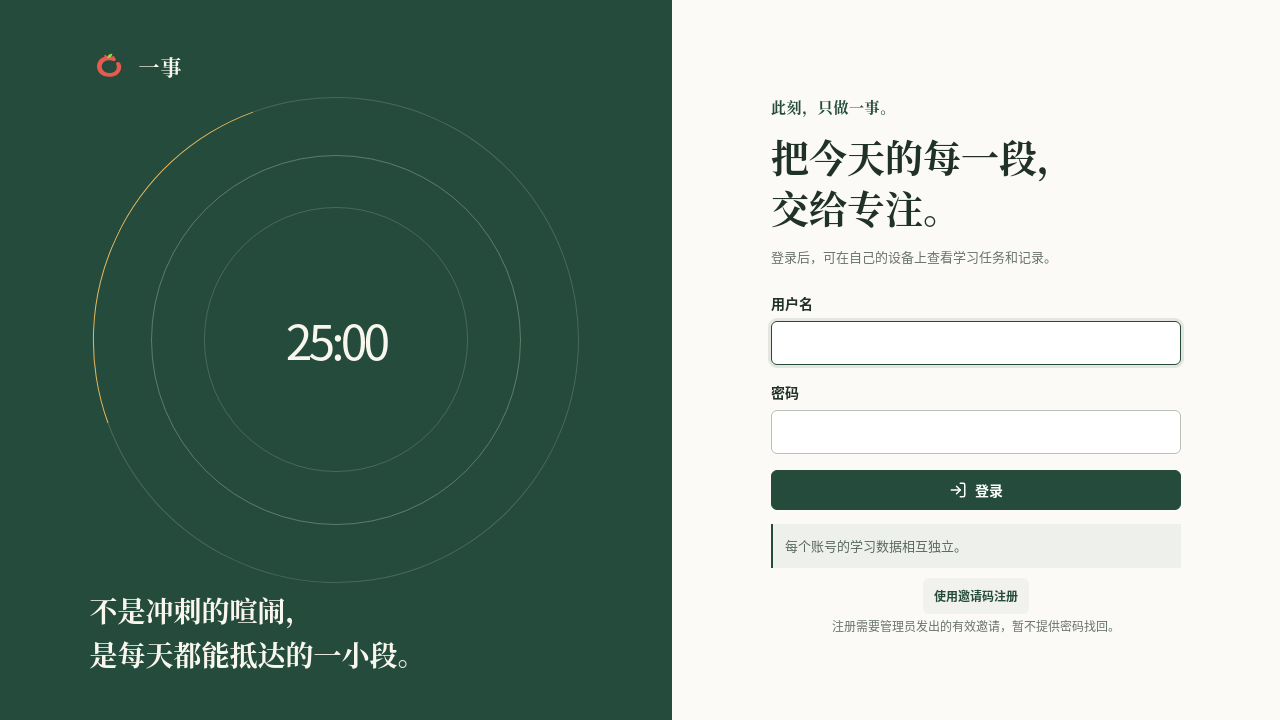
Test case: authentication experience › shows safe login feedback for {"code":"RATE_LIMITED","name":"RateLimitedError"}
The width and height of the screenshot is (1280, 720).
Type "learner" into the field labelled "用户名" at (976, 343), box x1=771 y1=321 x2=1181 y2=365
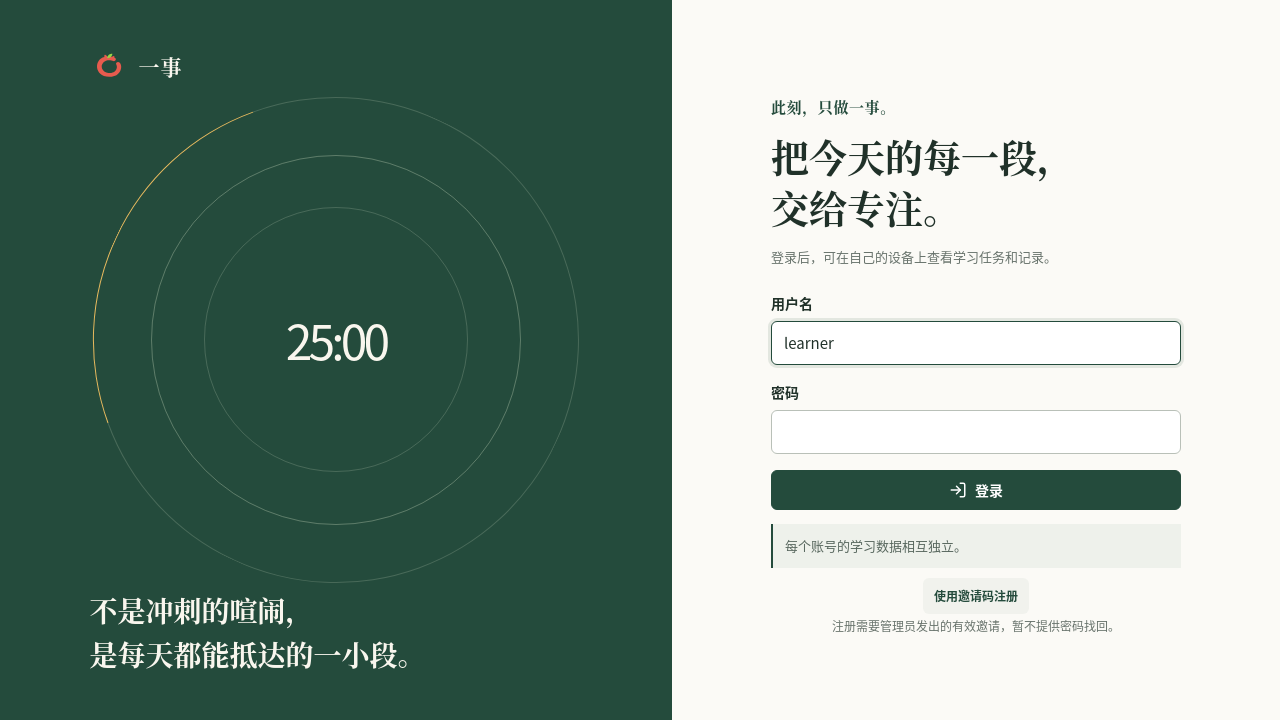
Type "wrong password" into the password field labelled "密码" at (976, 432), box x1=771 y1=410 x2=1181 y2=454
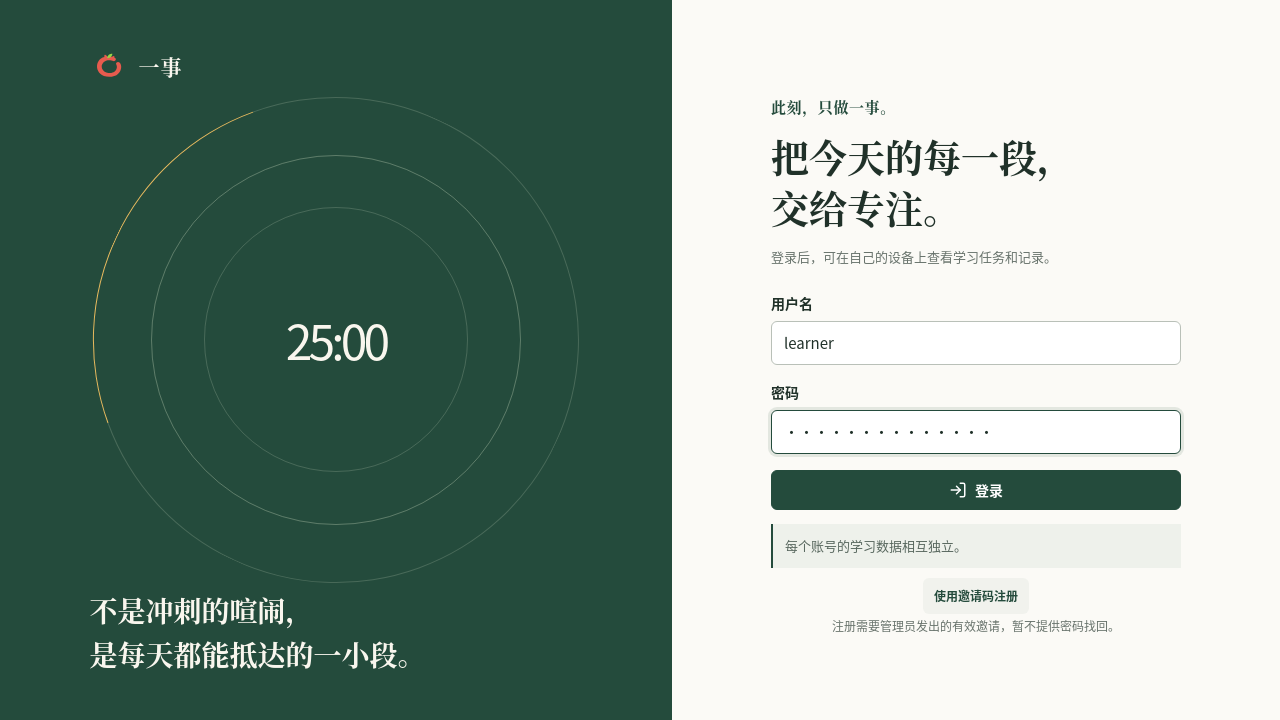
Click the button "登录" at (976, 490), box x1=771 y1=470 x2=1181 y2=510
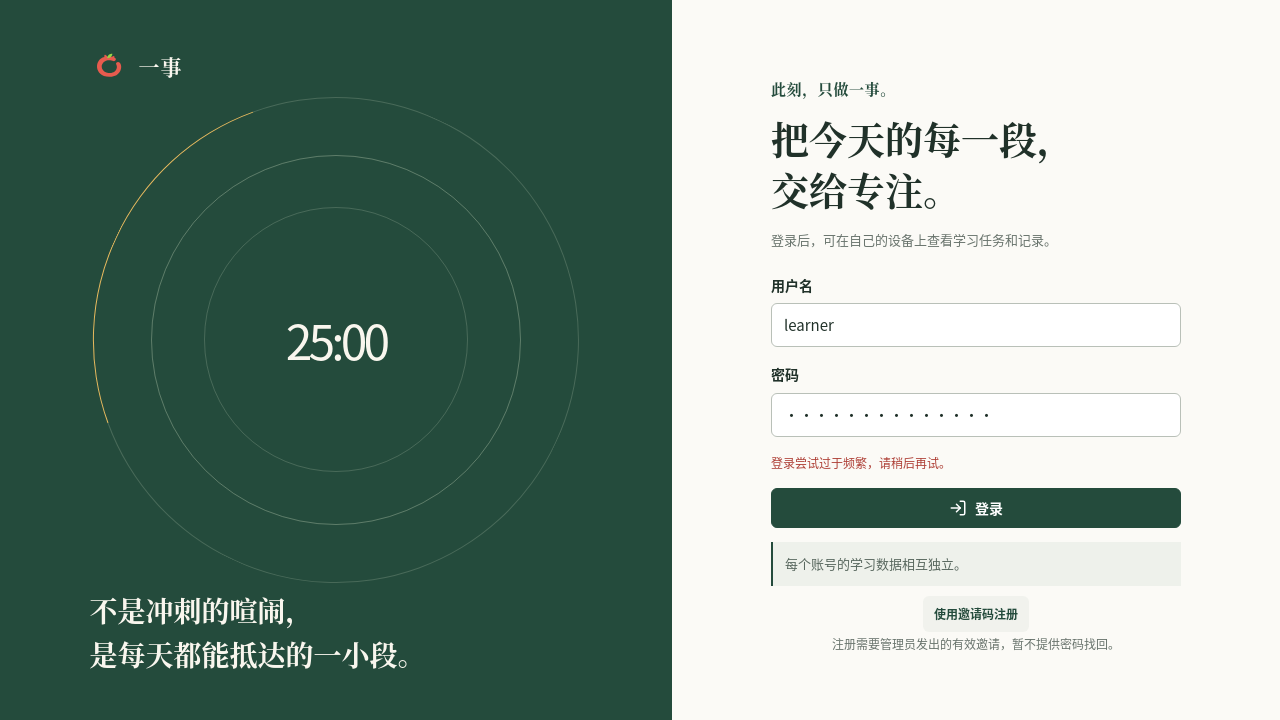
Result: the message shows "登录尝试过于频繁" at x1=771 y1=454 x2=951 y2=471
